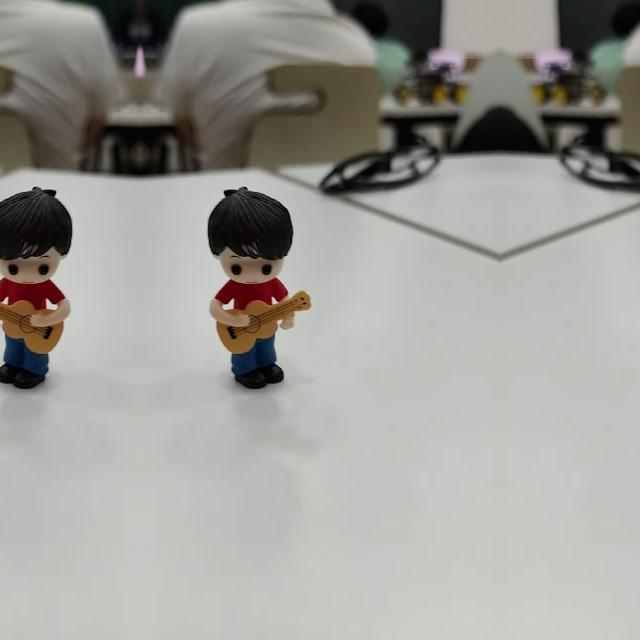man cloth: (215, 280, 295, 308), (0, 280, 65, 308)
man head: (200, 182, 298, 284), (0, 182, 80, 283)
trousers: (230, 330, 284, 394), (0, 329, 50, 394)
